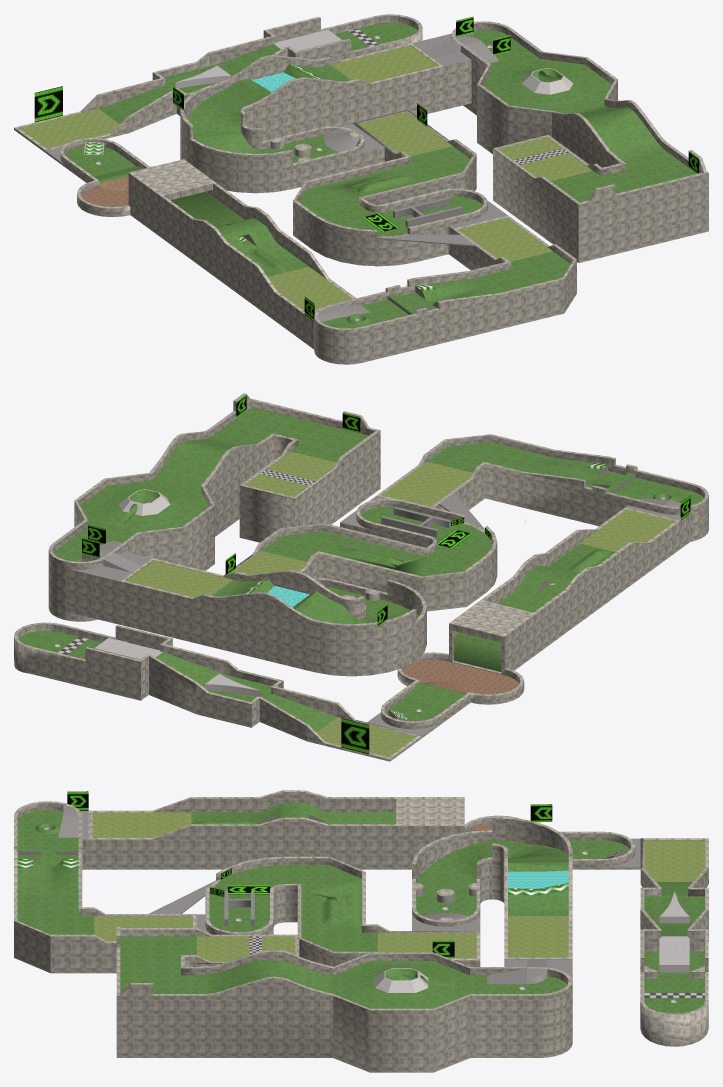
3 renders of one model, top to bottom at view 1: azimuth 30°, elevation 25°; view 2: azimuth 150°, elevation 25°; view 3: azimuth 270°, elevation 25°, orthographic. The views are drawn at different scales.
Visible parts, largest first — view 1: golf-SKP--brickwall.001, golf-SKP--grass.001, golf-SKP--brickdrive.001, golf-SKP--grasslight.001, golf-SKP--concretedarkdrive.001, golf-SKP--wallarrow.001, golf-SKP--lightoncretefloor.001, golf-SKP--concretedarkwall.001, golf-SKP--dirt.001, golf-SKP--lightconcretewall.001, golf-SKP--finisg.001; view 2: golf-SKP--brickwall.001, golf-SKP--grass.001, golf-SKP--brickdrive.001, golf-SKP--grasslight.001, golf-SKP--concretedarkdrive.001, golf-SKP--wallarrow.001, golf-SKP--dirt.001, golf-SKP--lightoncretefloor.001, golf-SKP--concretedarkwall.001; view 3: golf-SKP--brickwall.001, golf-SKP--grass.001, golf-SKP--brickdrive.001, golf-SKP--grasslight.001, golf-SKP--concretedarkdrive.001, golf-SKP--lightoncretefloor.001, golf-SKP--wallarrow.001, golf-SKP--dewater.001, golf-SKP--lightconcretewall.001, golf-SKP--boost.001, golf-SKP--concretedarkwall.001, golf-SKP--finisg.001.
Boxes of the visible parts, x1,y1,x2,y2 form: golf-SKP--brickwall.001: [14, 15, 708, 364]; golf-SKP--grass.001: [65, 22, 696, 328]; golf-SKP--brickdrive.001: [14, 14, 708, 329]; golf-SKP--grasslight.001: [19, 45, 592, 310]; golf-SKP--concretedarkdrive.001: [46, 33, 507, 315]; golf-SKP--wallarrow.001: [34, 16, 698, 321]; golf-SKP--lightoncretefloor.001: [84, 29, 573, 316]; golf-SKP--concretedarkwall.001: [103, 146, 475, 314]; golf-SKP--dirt.001: [81, 176, 128, 206]; golf-SKP--lightconcretewall.001: [175, 40, 460, 321]; golf-SKP--finisg.001: [348, 28, 568, 164]; golf-SKP--brickwall.001: [14, 394, 708, 761]; golf-SKP--grass.001: [19, 407, 703, 732]; golf-SKP--brickdrive.001: [14, 393, 708, 759]; golf-SKP--grasslight.001: [125, 451, 674, 757]; golf-SKP--concretedarkdrive.001: [68, 493, 680, 735]; golf-SKP--wallarrow.001: [82, 394, 690, 753]; golf-SKP--dirt.001: [402, 660, 519, 694]; golf-SKP--lightoncretefloor.001: [94, 489, 408, 720]; golf-SKP--concretedarkwall.001: [381, 465, 635, 720]; golf-SKP--brickwall.001: [14, 792, 708, 1072]; golf-SKP--grass.001: [17, 803, 704, 1013]; golf-SKP--brickdrive.001: [14, 790, 708, 1015]; golf-SKP--grasslight.001: [92, 812, 705, 961]; golf-SKP--concretedarkdrive.001: [58, 805, 640, 983]; golf-SKP--lightoncretefloor.001: [63, 804, 689, 992]; golf-SKP--wallarrow.001: [67, 791, 552, 958]; golf-SKP--dewater.001: [508, 870, 568, 888]; golf-SKP--lightconcretewall.001: [487, 916, 689, 984]; golf-SKP--boost.001: [17, 849, 623, 895]; golf-SKP--concretedarkwall.001: [17, 814, 625, 926]; golf-SKP--finisg.001: [249, 936, 704, 997].
Size of what is drawn, in the model's own units: 75203 by 12273 by 89144.
16 materials, 16 textured.
